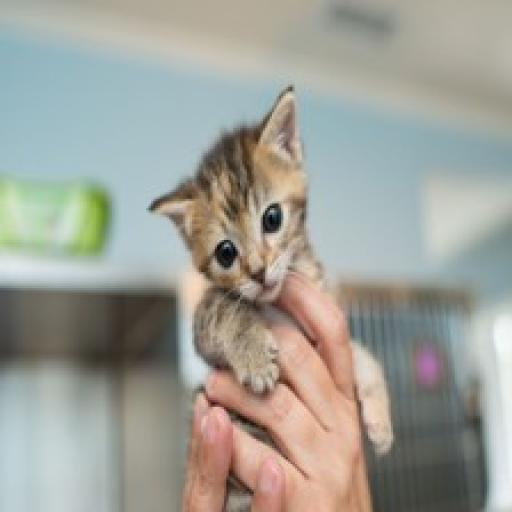cat: (137, 75, 401, 512)
